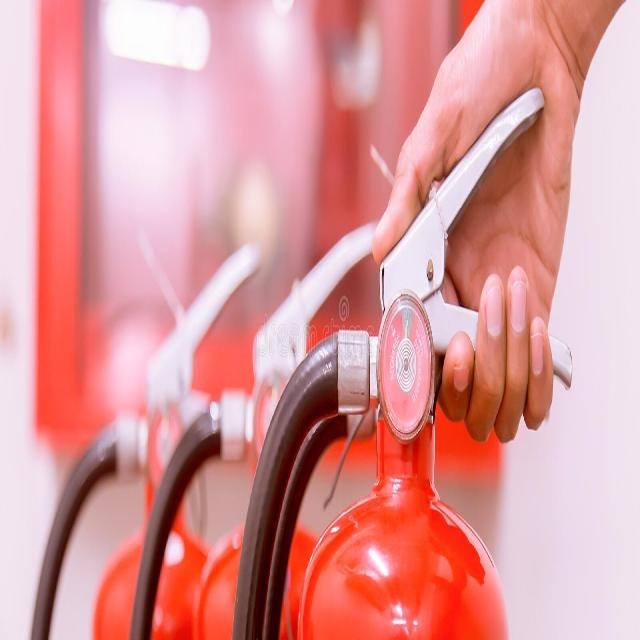fire_extinguisher: (226, 80, 577, 639), (122, 192, 434, 639), (24, 234, 278, 639)
